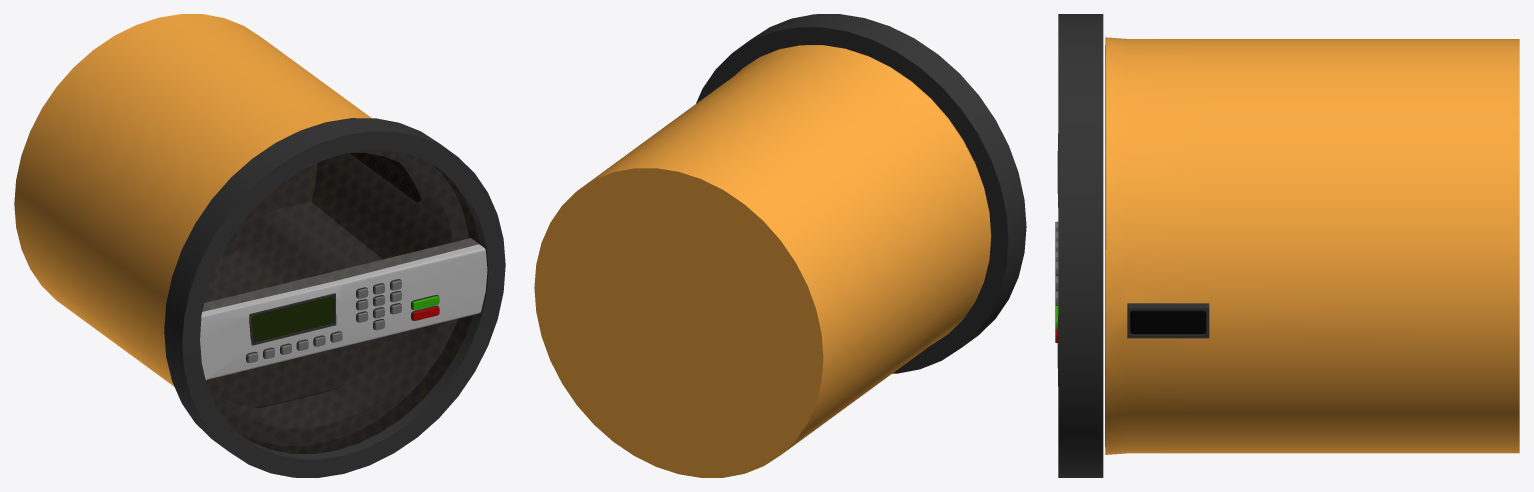
Rendered from ftrmicrowave.glb.
The picture shows the model from 3 angles, left to right: view 1: azimuth 30°, elevation 25°; view 2: azimuth 150°, elevation 25°; view 3: azimuth 270°, elevation 25°; orthographic projection. The views are drawn at different scales.
Visible parts, largest first — view 1: futuristicmicrowave, futuristicmicrowave.002, futuristicmicrowave.001; view 2: futuristicmicrowave, futuristicmicrowave.002; view 3: futuristicmicrowave, futuristicmicrowave.002.
Boxes of the visible parts, bbox=[...] form: futuristicmicrowave: bbox=[14, 14, 468, 445]; futuristicmicrowave.002: bbox=[164, 118, 505, 477]; futuristicmicrowave.001: bbox=[202, 150, 479, 453]; futuristicmicrowave: bbox=[534, 45, 991, 477]; futuristicmicrowave.002: bbox=[696, 14, 1026, 373]; futuristicmicrowave: bbox=[1105, 37, 1519, 454]; futuristicmicrowave.002: bbox=[1055, 14, 1103, 477].
Bounding box in the file's own units: 10.4 × 10.4 × 10.41.
1 material, 1 textured.
